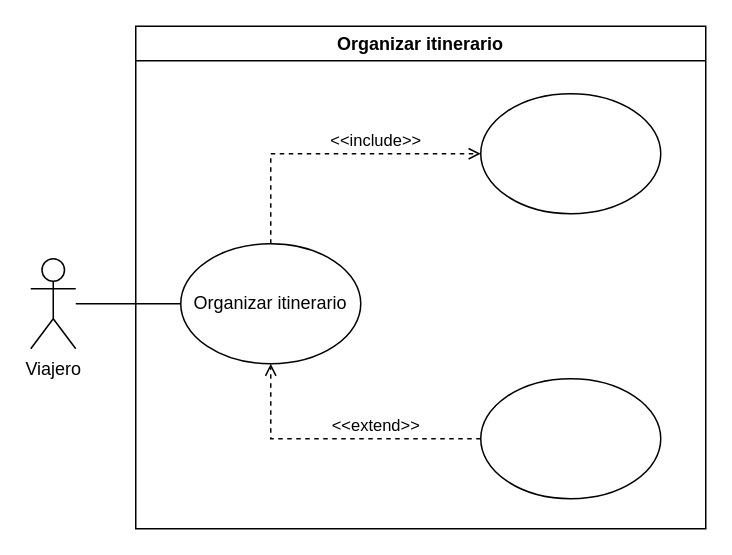
The diagram is 732 pixels wide and 555 high, and some of its shapes have lost their labels. Here are the shapes that lost their labels. From the top down, the centre of each, then its label:
the point at 570,153: Visualizar itinerario por dia
the point at 570,438: Administrar actividades
